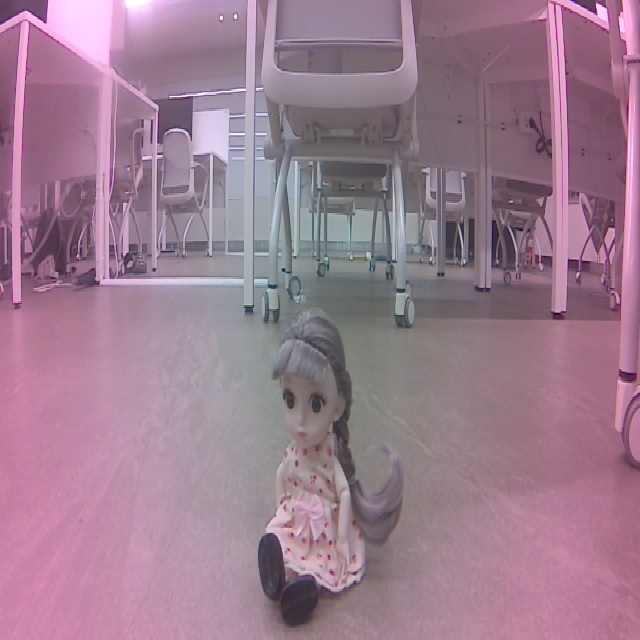장애물: (315, 272, 469, 585)
